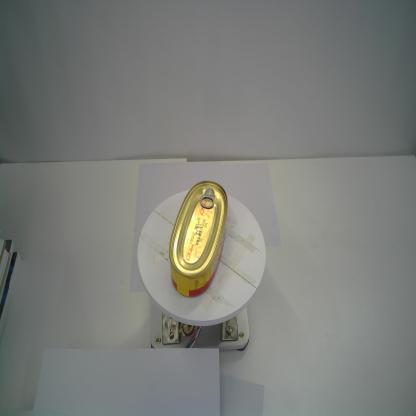Canned Food: (168, 179, 229, 298)
